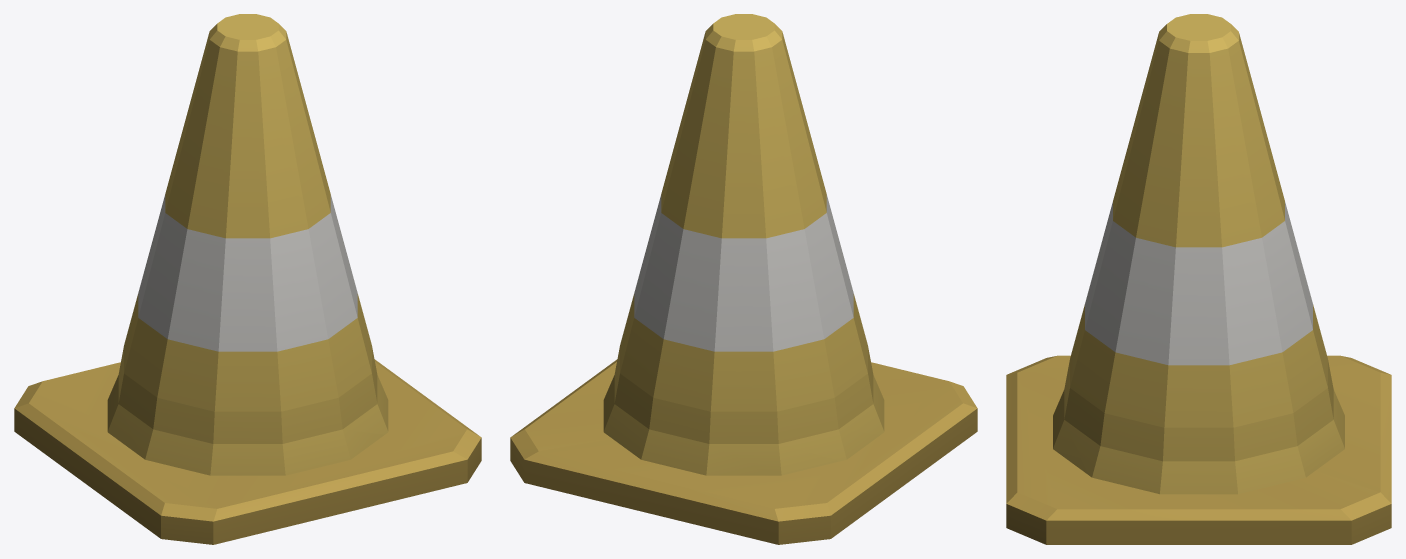
3 renders of one model, left to right at view 1: azimuth 30°, elevation 25°; view 2: azimuth 150°, elevation 25°; view 3: azimuth 270°, elevation 25°, orthographic. The views are drawn at different scales.
Parts seen in each view (by area): view 1: cone.001; view 2: cone.001; view 3: cone.001.
Part boxes in pixels (x1,y1,x2,y2): cone.001: (14, 14, 481, 544); cone.001: (510, 14, 977, 544); cone.001: (1006, 14, 1391, 544).
Size of the model in its own units: 0.56 by 0.7 by 0.56.
